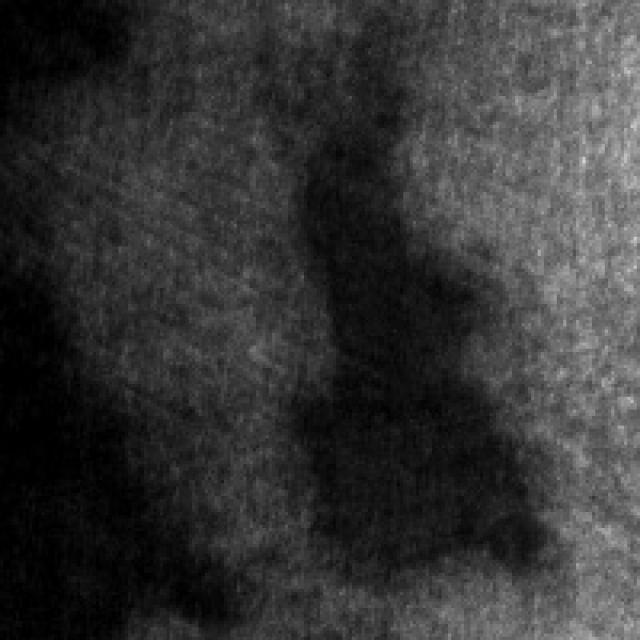patches: (282, 80, 540, 576), (0, 230, 170, 637), (0, 0, 144, 106)
